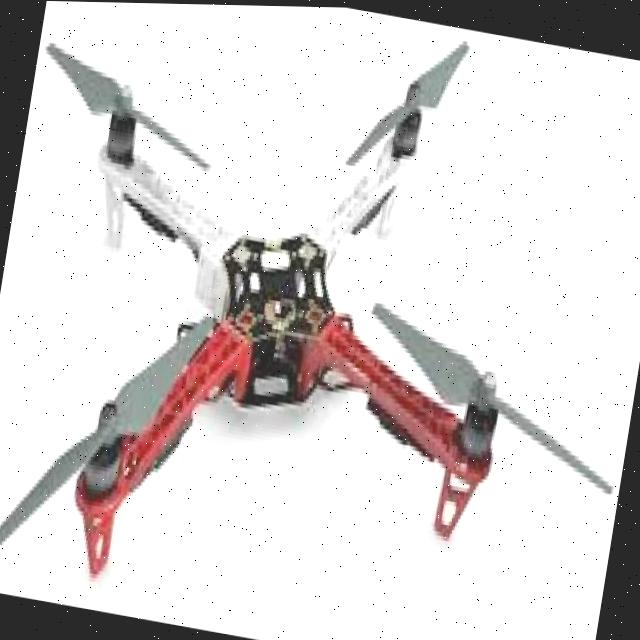drone: (0, 0, 616, 640)
